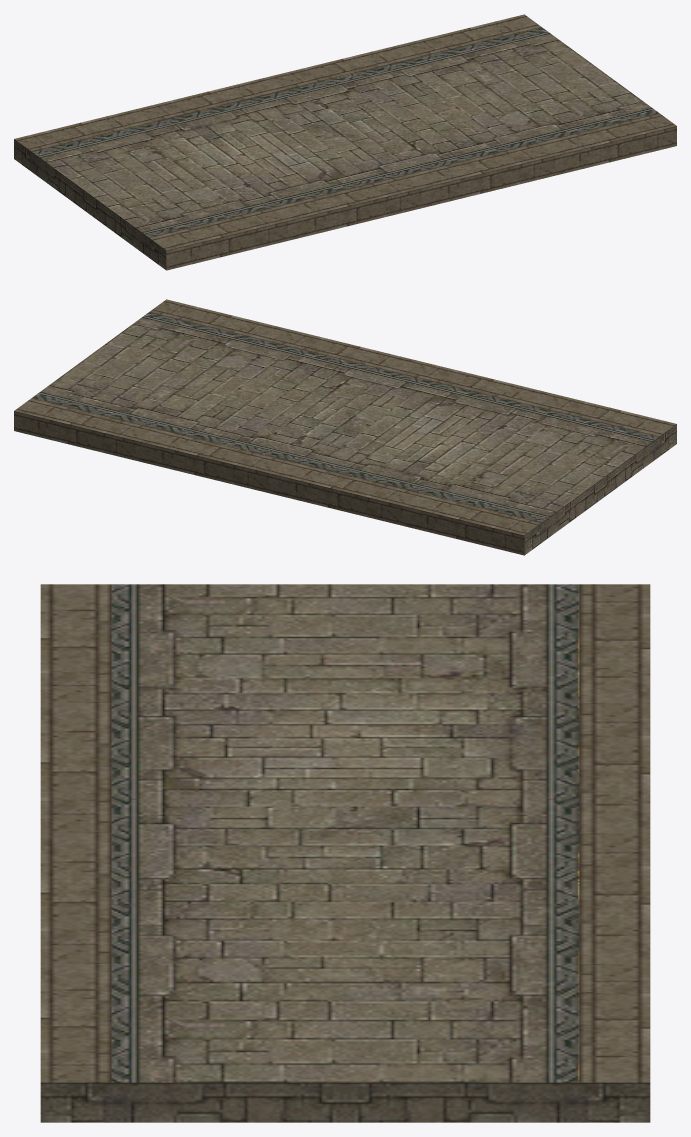
The model's file is d_lianqi_dimian01_jz.FBX.
3 renders of one model, top to bottom at view 1: azimuth 30°, elevation 25°; view 2: azimuth 150°, elevation 25°; view 3: azimuth 270°, elevation 25°, orthographic. The views are drawn at different scales.
Parts seen in each view (by area): view 1: d_lianqi_dimian01_jz_A; view 2: d_lianqi_dimian01_jz_A; view 3: d_lianqi_dimian01_jz_A.
Part boxes in pixels (x1,y1,x2,y2): d_lianqi_dimian01_jz_A: [14, 14, 676, 270]; d_lianqi_dimian01_jz_A: [14, 299, 676, 555]; d_lianqi_dimian01_jz_A: [40, 584, 650, 1122].
Bounding box in the file's own units: 718 × 26.94 × 372.
1 material, 1 textured.
